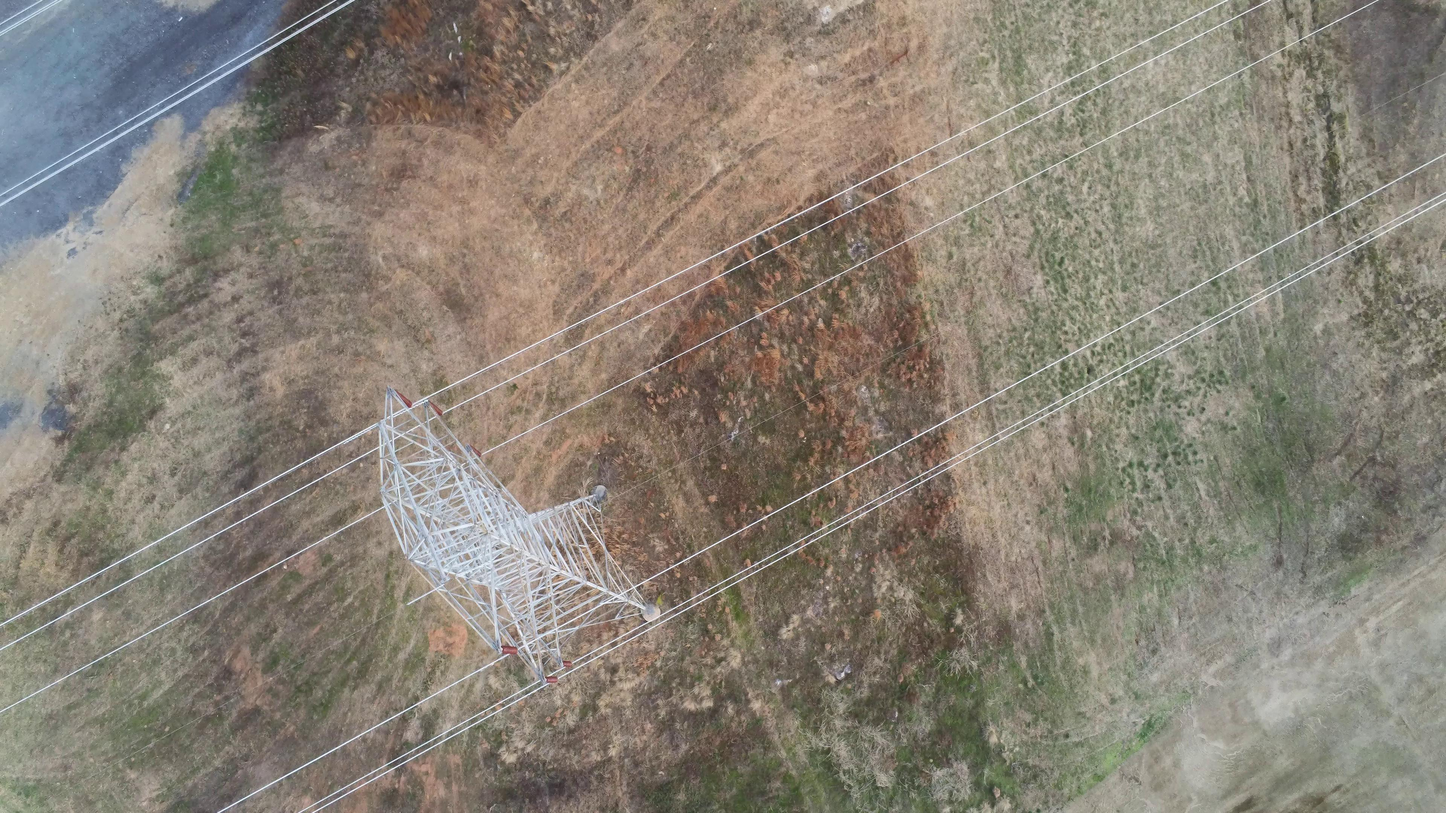power_tower: (376, 385, 661, 685)
